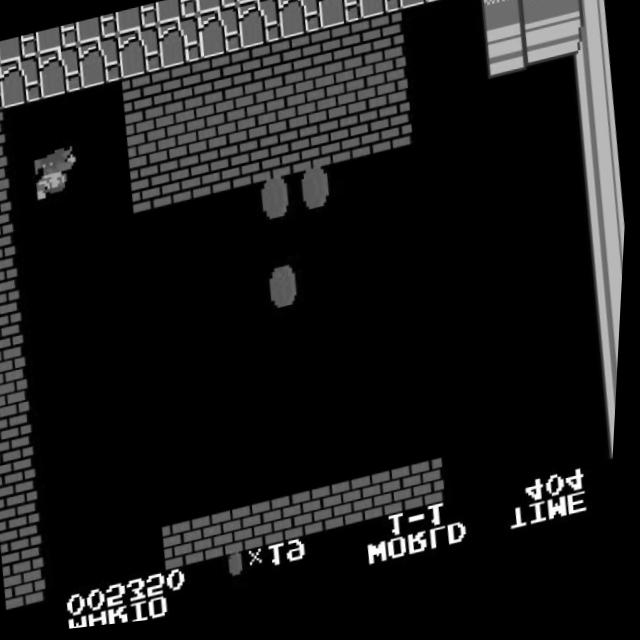1- brick_block: (204, 99, 254, 154), (319, 28, 369, 83), (160, 63, 209, 119), (200, 54, 249, 110), (285, 492, 334, 548), (240, 45, 289, 101), (325, 483, 374, 539), (280, 36, 329, 92), (365, 474, 414, 530), (405, 465, 454, 521), (165, 520, 214, 575), (125, 117, 174, 172), (120, 72, 169, 127), (206, 510, 255, 565), (165, 108, 214, 163), (245, 501, 294, 556), (244, 90, 293, 145), (289, 126, 338, 181), (284, 81, 333, 136), (329, 117, 378, 172), (324, 72, 373, 127), (369, 108, 418, 163), (364, 63, 413, 118), (359, 19, 408, 74), (130, 163, 179, 217), (169, 154, 218, 208), (209, 144, 258, 198), (249, 135, 298, 189), (7, 556, 55, 611), (2, 512, 50, 566), (0, 467, 46, 521), (0, 422, 41, 477), (0, 377, 37, 432), (0, 333, 32, 387), (0, 288, 27, 342), (0, 243, 23, 297), (0, 199, 19, 251), (0, 154, 14, 206), (0, 109, 10, 161)
11- little_mario: (31, 146, 83, 206)
14- pipe: (576, 153, 626, 208), (523, 27, 572, 82), (572, 108, 621, 163), (581, 198, 630, 252), (567, 64, 616, 118), (563, 19, 612, 73), (585, 242, 628, 297), (590, 288, 626, 342), (519, 0, 568, 37), (594, 333, 624, 385), (558, 0, 607, 29), (598, 379, 622, 431), (603, 423, 620, 475)
15- pipe_head: (484, 36, 533, 91), (479, 0, 528, 46)
17- undestructible_block: (76, 36, 125, 92), (116, 27, 165, 83), (156, 18, 205, 74), (196, 9, 245, 65), (36, 46, 85, 101), (235, 1, 284, 56), (0, 55, 46, 110), (275, 0, 324, 47), (315, 0, 364, 38), (35, 24, 80, 56), (75, 15, 120, 47), (115, 6, 160, 38), (355, 0, 404, 29), (154, 0, 199, 29), (0, 32, 40, 64), (395, 0, 444, 19), (194, 0, 239, 20), (234, 0, 279, 11), (434, 0, 483, 10), (474, 0, 523, 1), (274, 0, 319, 1)
2- coin: (262, 269, 311, 324), (254, 179, 303, 234), (293, 170, 342, 225)
